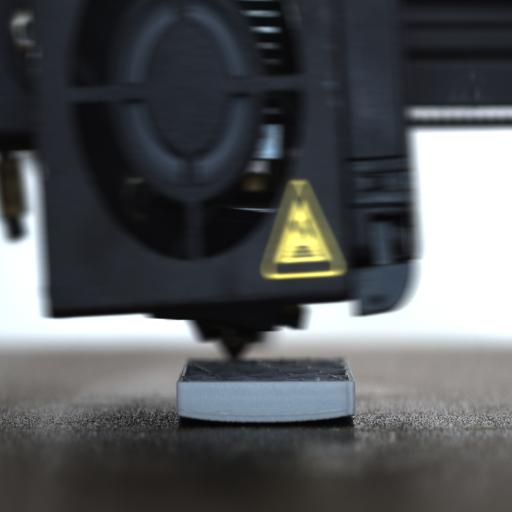warp: (321, 400, 364, 430), (170, 403, 222, 427)
